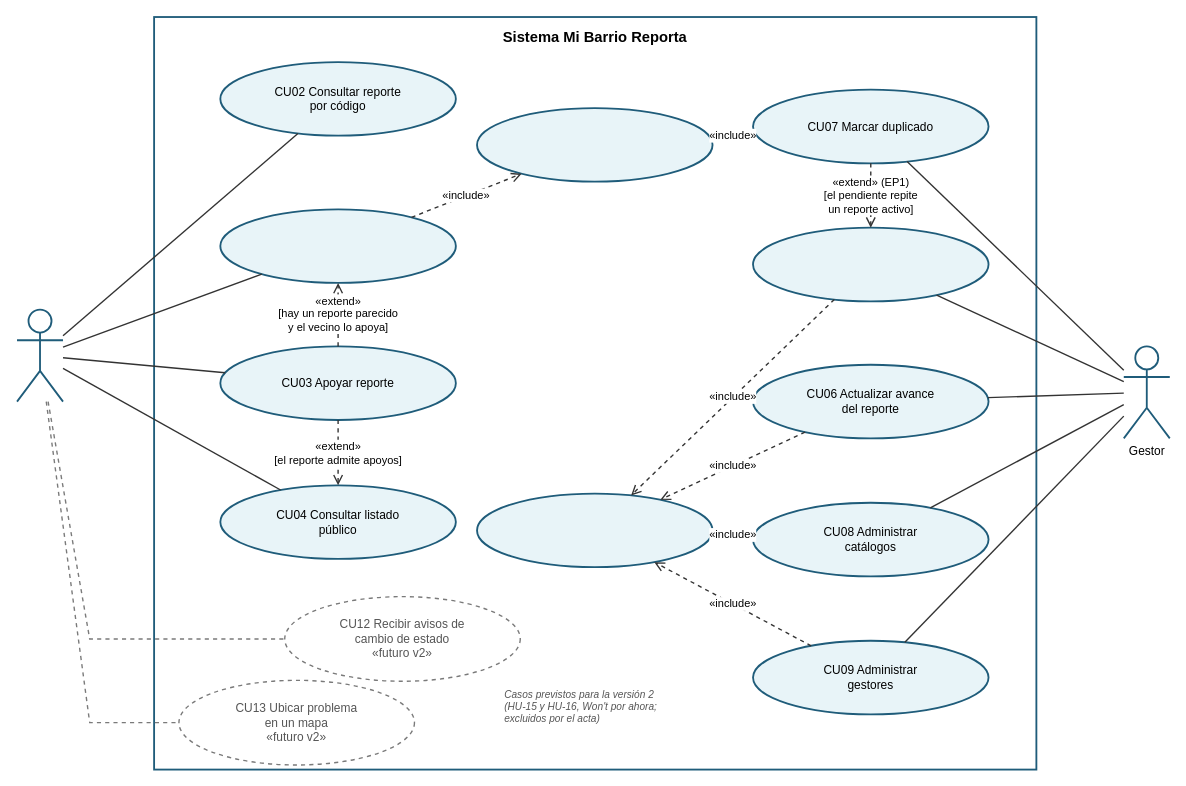
The diagram is 1186 pixels wide and 786 high, and some of its shapes have lost their labels. The centre of each missing label's shape, as x and y in pixels:
"CU01 Reportar problema" goes at [337,245].
"CU05 Moderar reportes pendientes" goes at [870,264].
"CU10 Gestionar sesión" goes at [594,530].
"CU11 Buscar reportes parecidos" goes at [594,144].
"Vecino" goes at [39,355].
